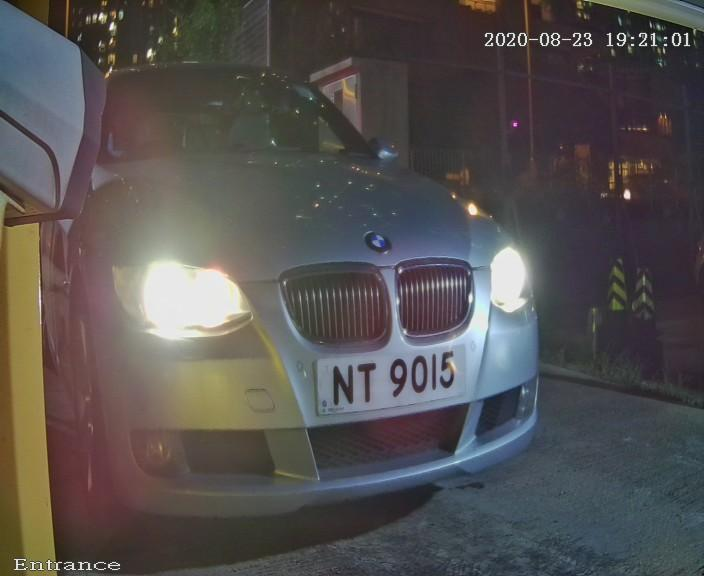Car: (16, 3, 604, 556)
License Plate: (282, 313, 510, 437)
